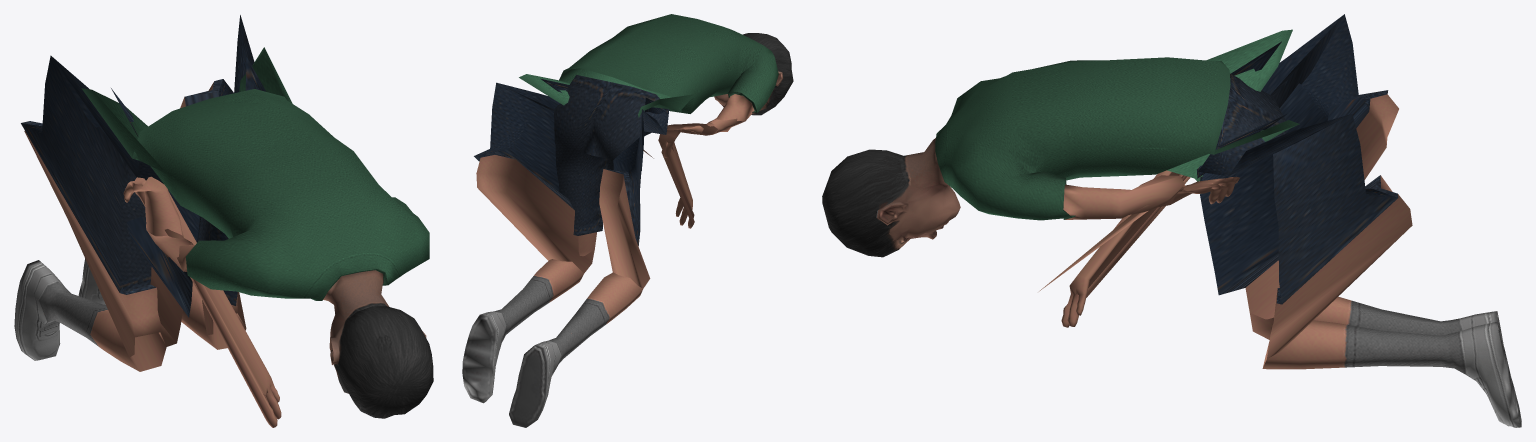
File: VisitorKidSit_no_book_hands_lap.obj
3 views of the same model, side by side, from view 1: azimuth 30°, elevation 25°; view 2: azimuth 150°, elevation 25°; view 3: azimuth 270°, elevation 25° (orthographic). The views are drawn at different scales.
Visible parts, largest first — view 1: VisitorKidSit_VisitorKid.001; view 2: VisitorKidSit_VisitorKid.001; view 3: VisitorKidSit_VisitorKid.001.
Part boxes in pixels (<box>): VisitorKidSit_VisitorKid.001: <box>14,15,433,427</box>; VisitorKidSit_VisitorKid.001: <box>462,14,793,427</box>; VisitorKidSit_VisitorKid.001: <box>822,14,1521,427</box>.
Bounding box in the file's own units: 0.3084 × 0.5132 × 0.8759.
1 material, 1 textured.
